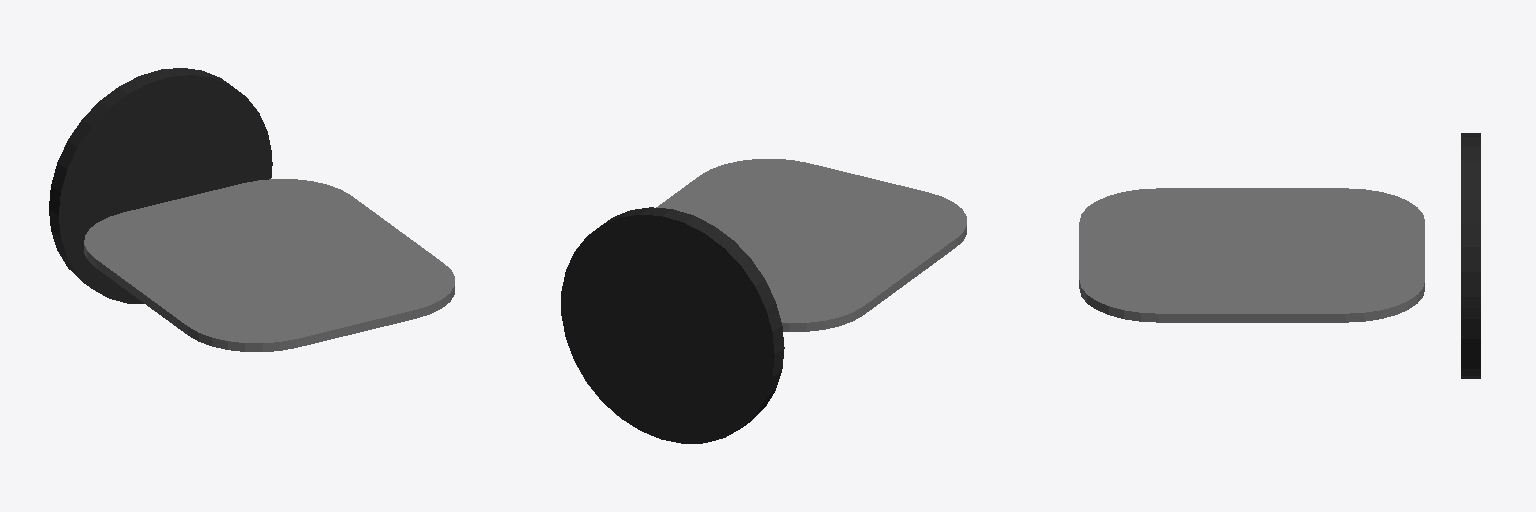
The model's file is altinay_station.obj.
3 views of the same model, side by side, from view 1: azimuth 30°, elevation 25°; view 2: azimuth 150°, elevation 25°; view 3: azimuth 270°, elevation 25° (orthographic).
Visible parts, largest first — view 1: ART_GS[number redacted]_A; view 2: ART_GS[number redacted]_A; view 3: ART_GS[number redacted]_A.
Part boxes in pixels (bbox=[...]): ART_GS[number redacted]_A: bbox=[49, 68, 454, 351]; ART_GS[number redacted]_A: bbox=[561, 159, 966, 443]; ART_GS[number redacted]_A: bbox=[1079, 133, 1480, 378].
Bounding box in the file's own units: 0.45 × 0.3745 × 0.6088.